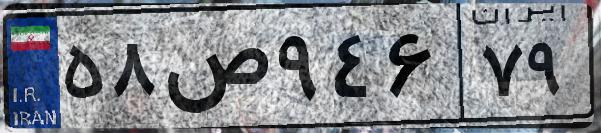4: (330, 28, 385, 110)
5: (57, 26, 110, 100)
6: (385, 28, 445, 110)
7: (475, 38, 525, 113)
8: (110, 28, 158, 98)
9: (270, 28, 330, 110), (525, 38, 570, 115)
ص: (158, 20, 270, 120)
